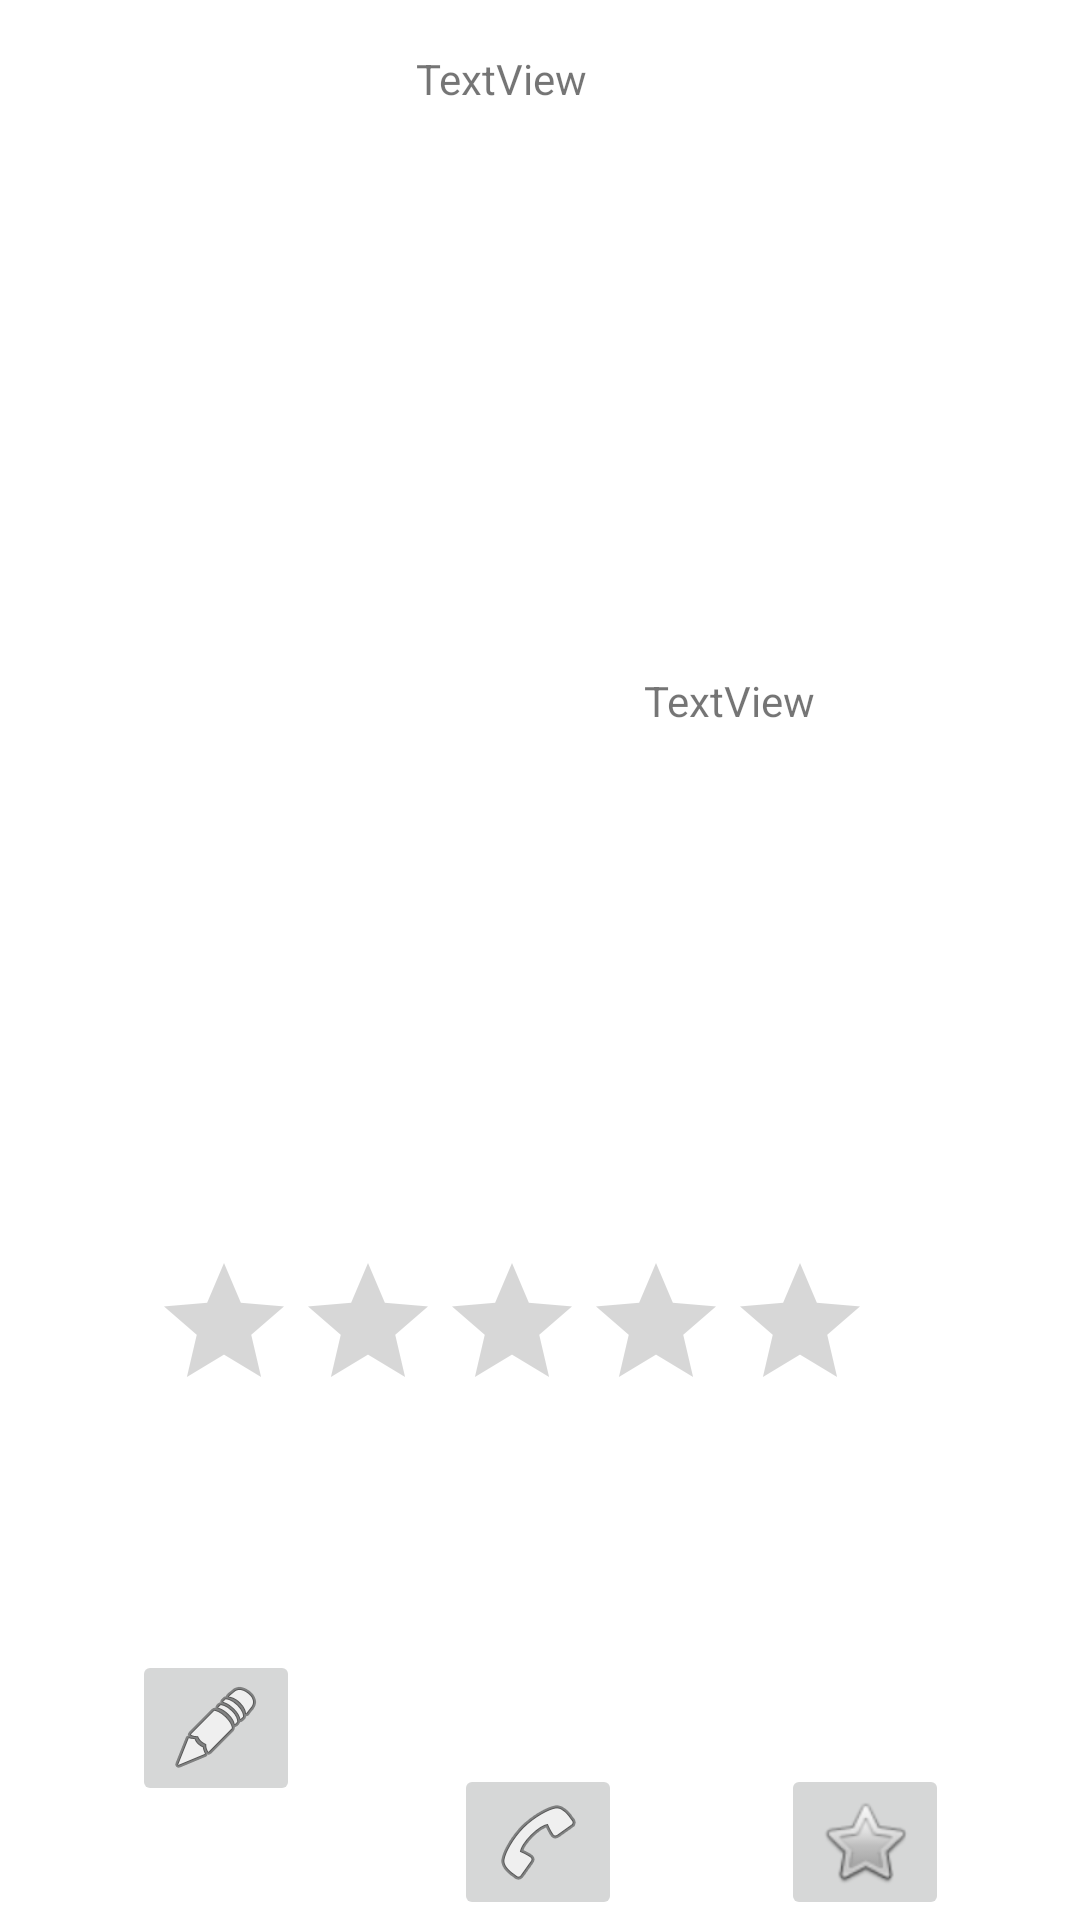

Icons on this 1080 x 1920 Android screen, each with the point to tap as (x=x, y=y):
call: (x=538, y=1842)
edit: (x=216, y=1728)
star: (x=865, y=1842)
